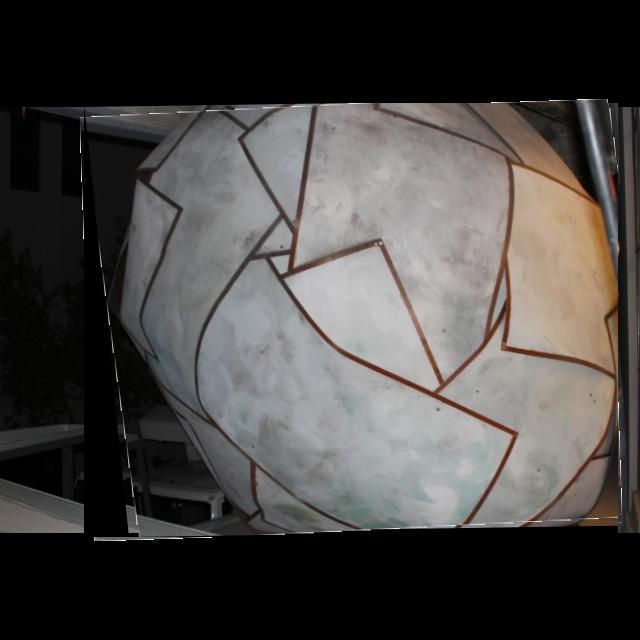Football: (84, 103, 618, 537)
